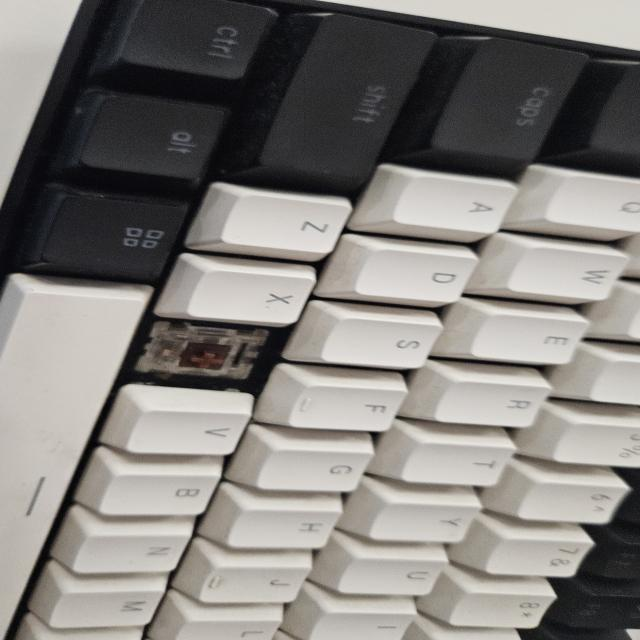C: (153, 327, 250, 386)
